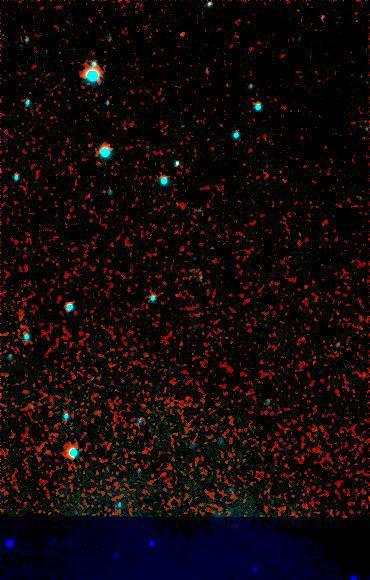star: (165, 18, 195, 48)
